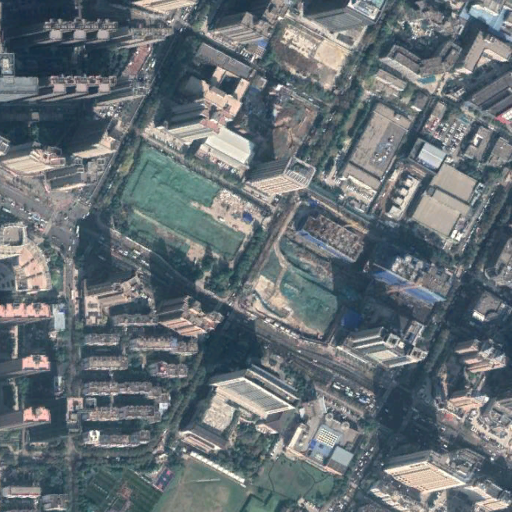cw: (100, 140, 248, 295), (256, 241, 355, 347)
